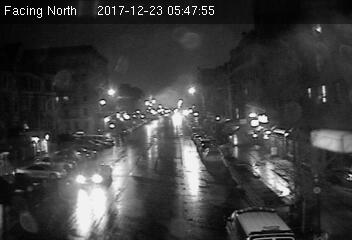car: (75, 164, 113, 190), (202, 146, 224, 161)
police: (223, 203, 294, 240)
